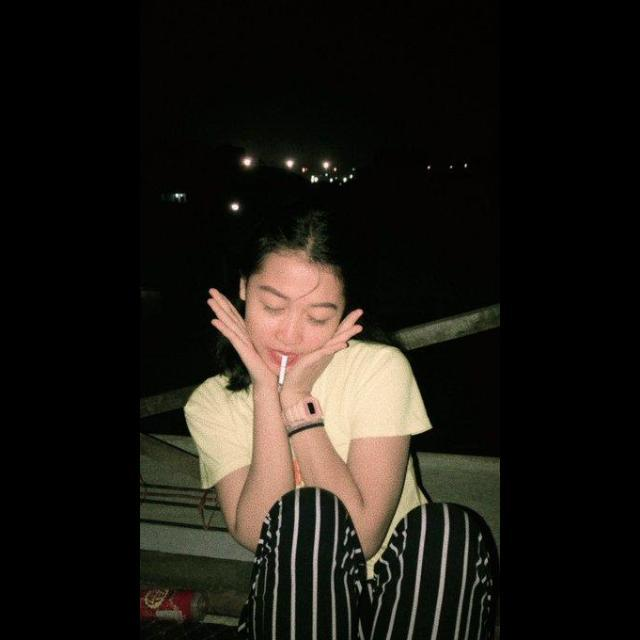rokok: (275, 350, 293, 394)
